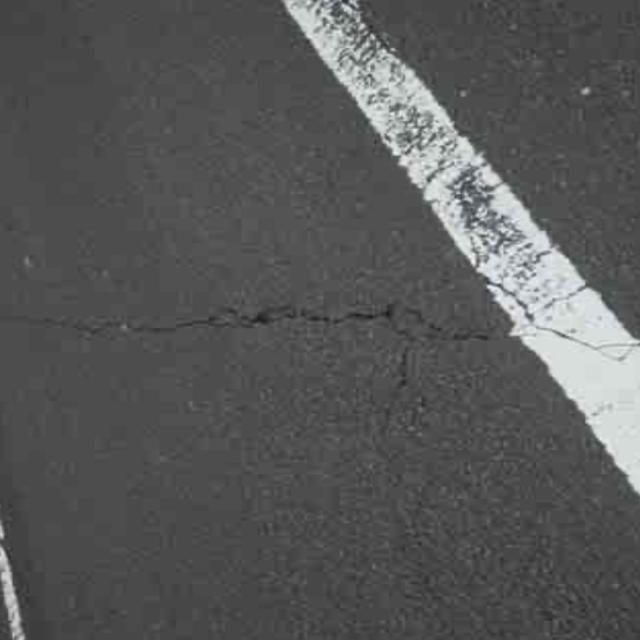crack: (9, 294, 490, 352)
